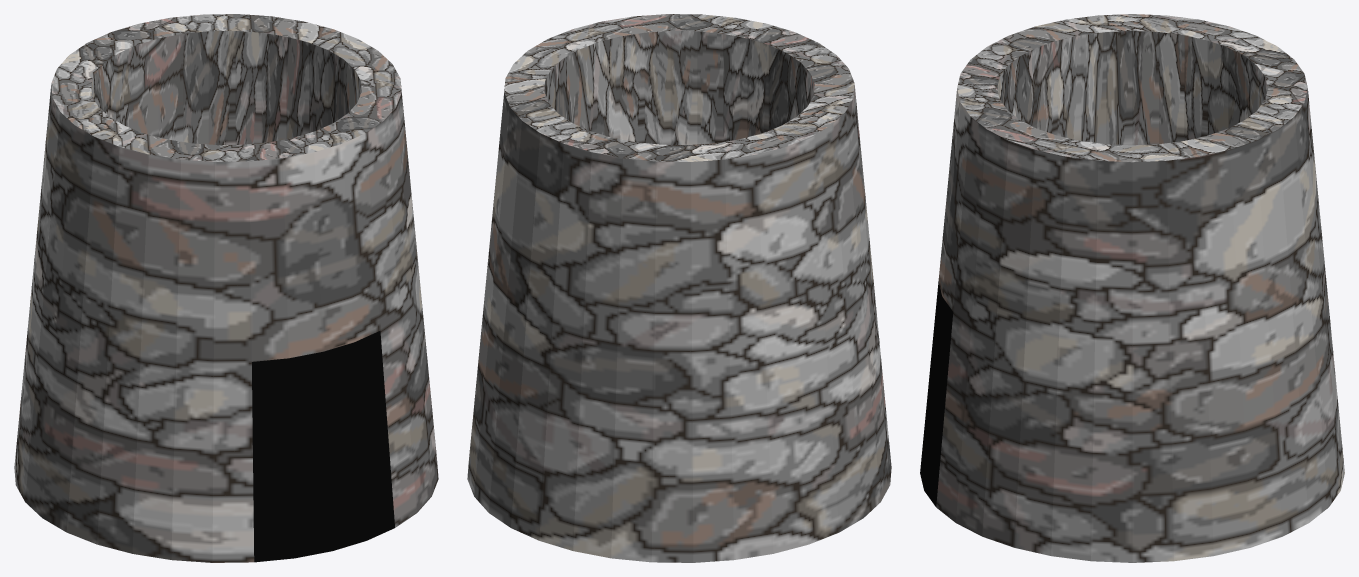
The model's file is round_tower.fbx.
3 renders of one model, left to right at view 1: azimuth 30°, elevation 25°; view 2: azimuth 150°, elevation 25°; view 3: azimuth 270°, elevation 25°, orthographic.
Visible parts, largest first — view 1: RoundTower; view 2: RoundTower; view 3: RoundTower.
Boxes of the visible parts, bbox=[...] form: RoundTower: bbox=[14, 14, 438, 562]; RoundTower: bbox=[467, 14, 891, 562]; RoundTower: bbox=[920, 14, 1344, 562].
Size of the model in its own units: 900 by 900 by 900.
